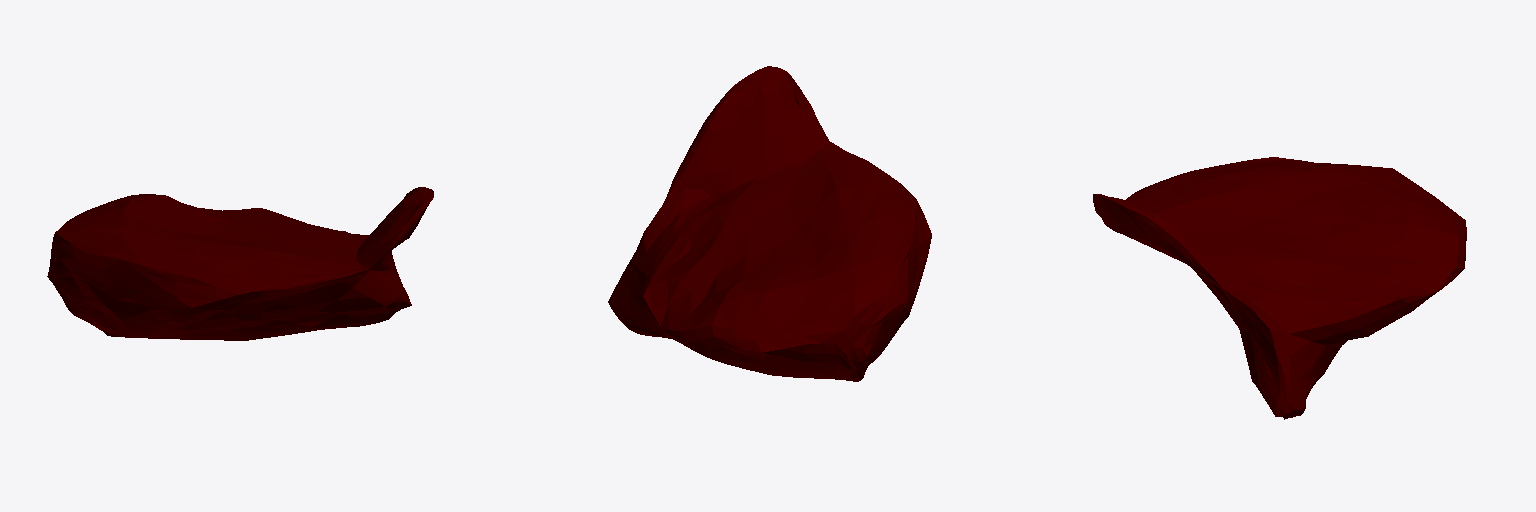
The model's file is rock4.obj.
3 views of the same model, side by side, from view 1: azimuth 30°, elevation 25°; view 2: azimuth 150°, elevation 25°; view 3: azimuth 270°, elevation 25° (orthographic).
Visible parts, largest first — view 1: bolder2 bolderGroup1; view 2: bolder2 bolderGroup1; view 3: bolder2 bolderGroup1.
Part boxes in pixels (x1,y1,x2,y2): bolder2 bolderGroup1: (47,187,433,340); bolder2 bolderGroup1: (608,66,931,381); bolder2 bolderGroup1: (1093,157,1466,419).
Bounding box in the file's own units: 17.76 × 11.32 × 18.67.